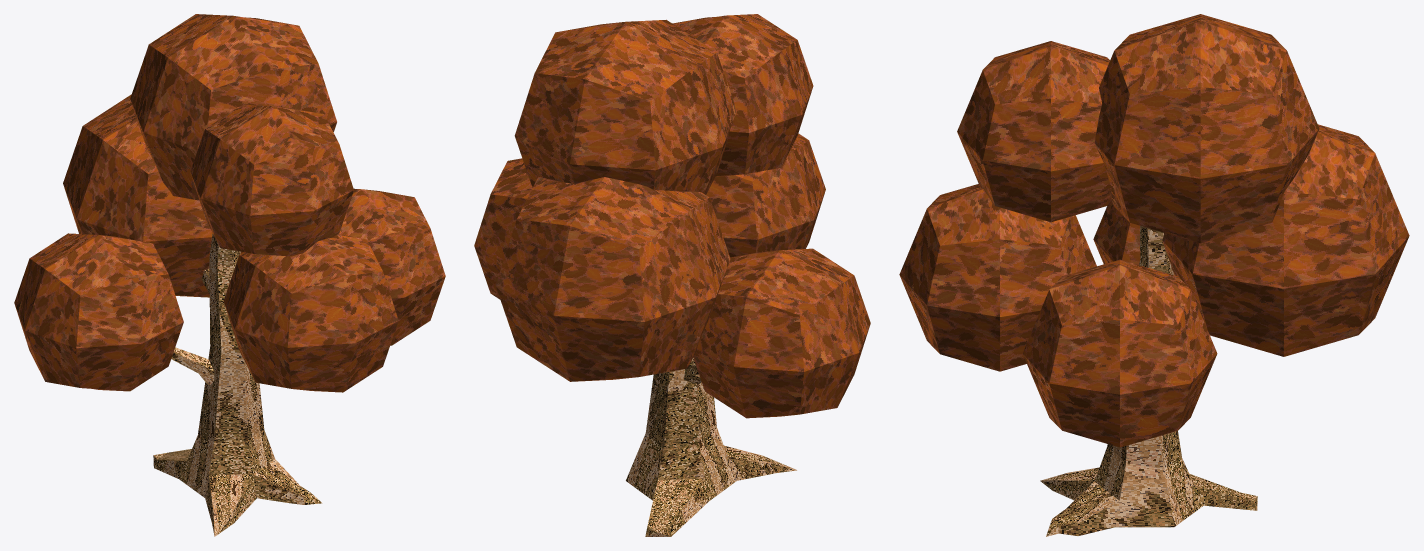
File: Beech.glb
3 views of the same model, side by side, from view 1: azimuth 30°, elevation 25°; view 2: azimuth 150°, elevation 25°; view 3: azimuth 270°, elevation 25° (orthographic). The views are drawn at different scales.
Parts seen in each view (by area): view 1: tree; view 2: tree; view 3: tree.
Part boxes in pixels (x1,y1,x2,y2): tree: [14, 14, 445, 536]; tree: [474, 14, 870, 536]; tree: [899, 14, 1409, 536].
Bounding box in the file's own units: 8.44 × 9.6 × 8.64.
Materials: 2 (2 with a texture image).
